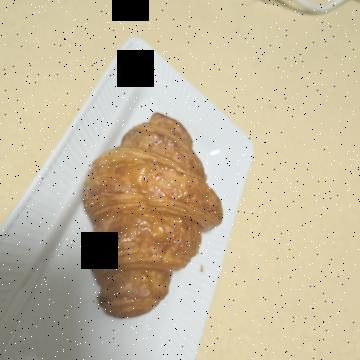croissant: (102, 131, 331, 290)
